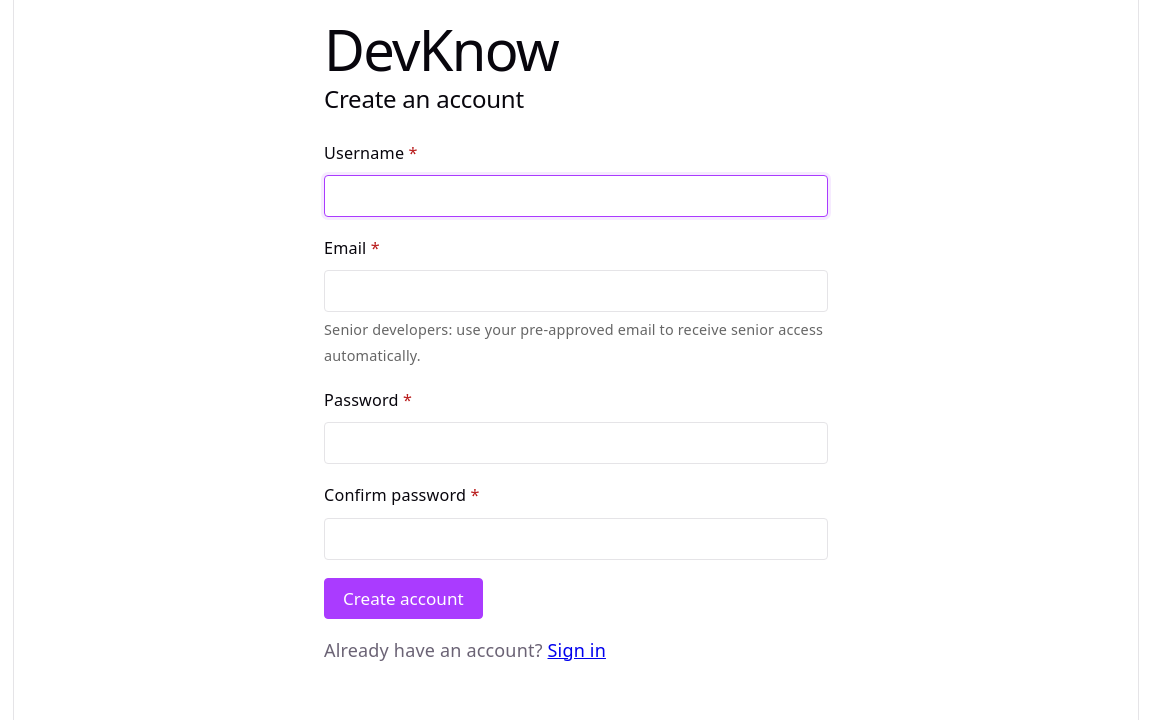
Test: RegisterPage › shows a field-level error when the username is already taken
In the field labelled "Username": x=576, y=196 [324,175,828,217], type "taken"
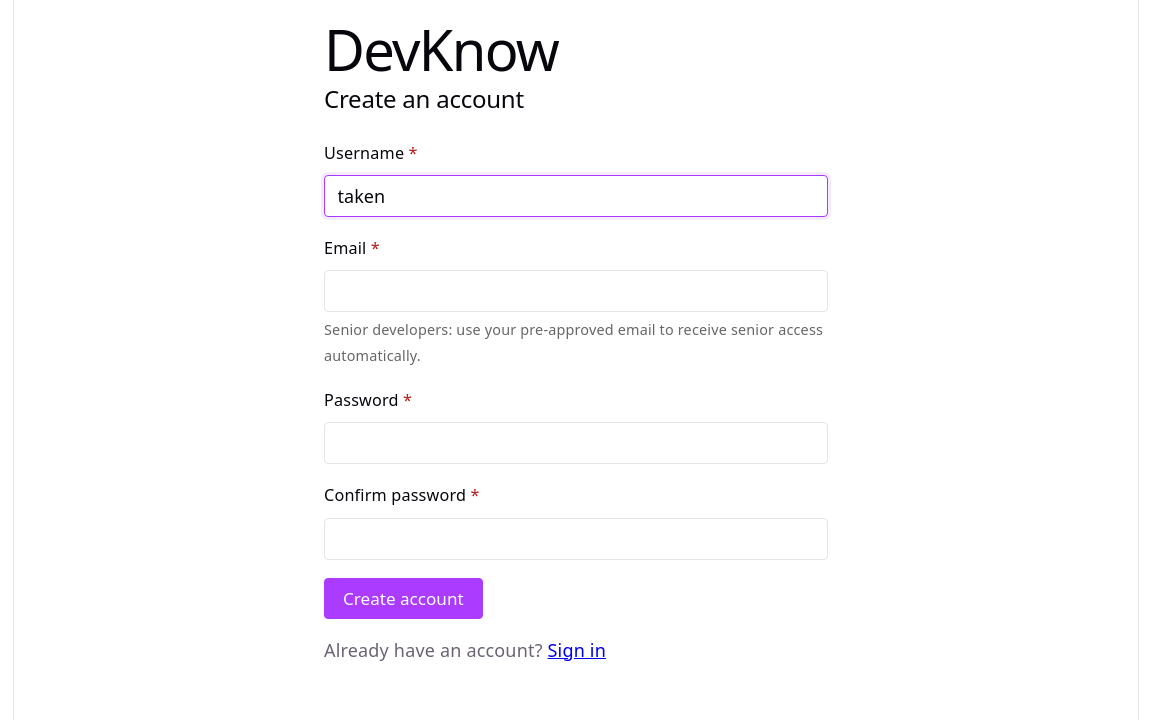
In the field labelled "Email": x=576, y=291 [324,270,828,312], type "taken@example.com"
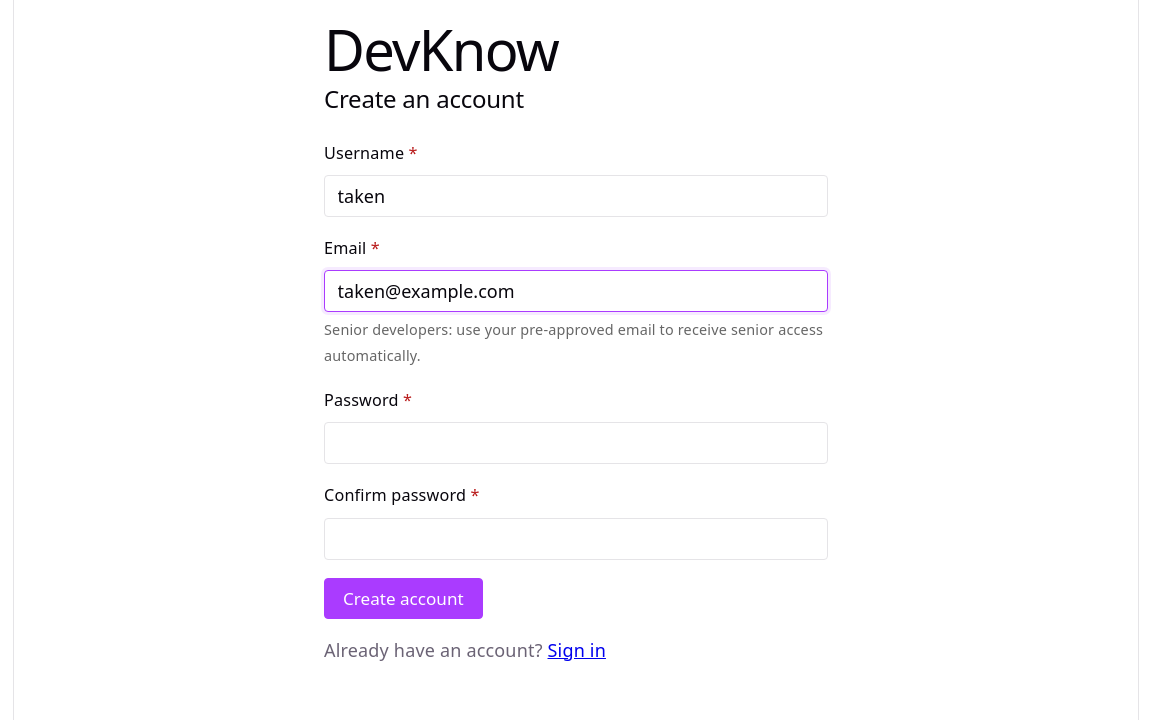
In the password field labelled "Password": x=576, y=443 [324,422,828,464], type "securepass1"
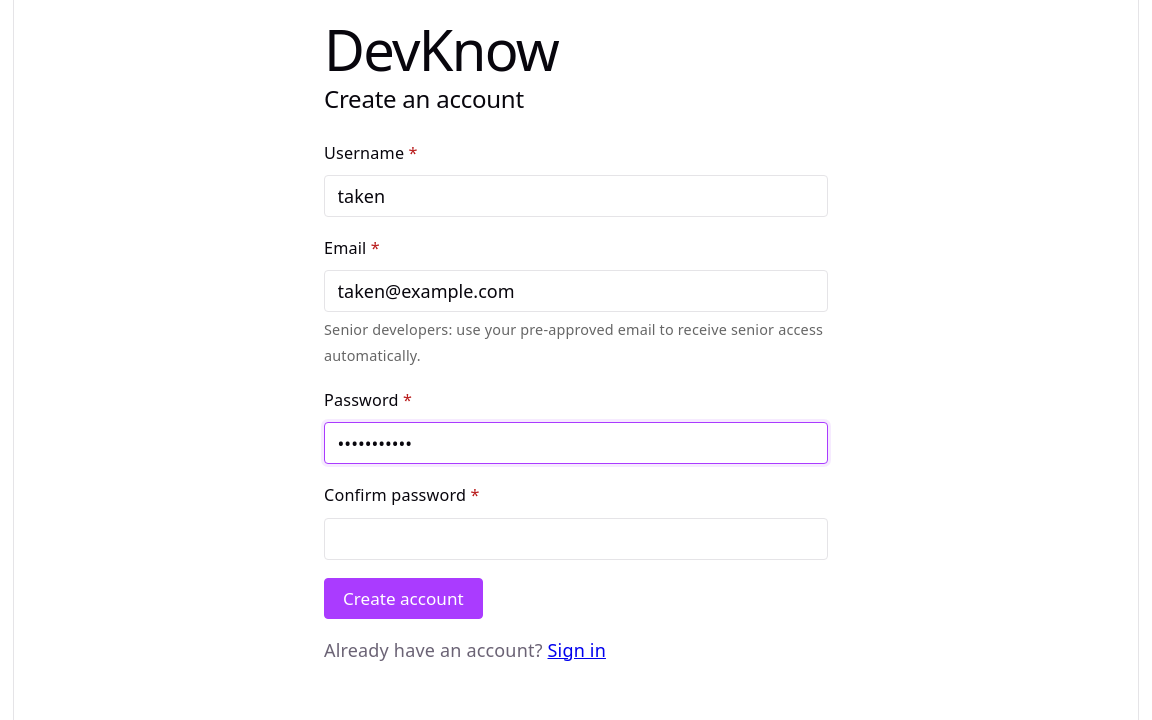
In the password field labelled "Confirm password": x=576, y=539 [324,518,828,560], type "securepass1"
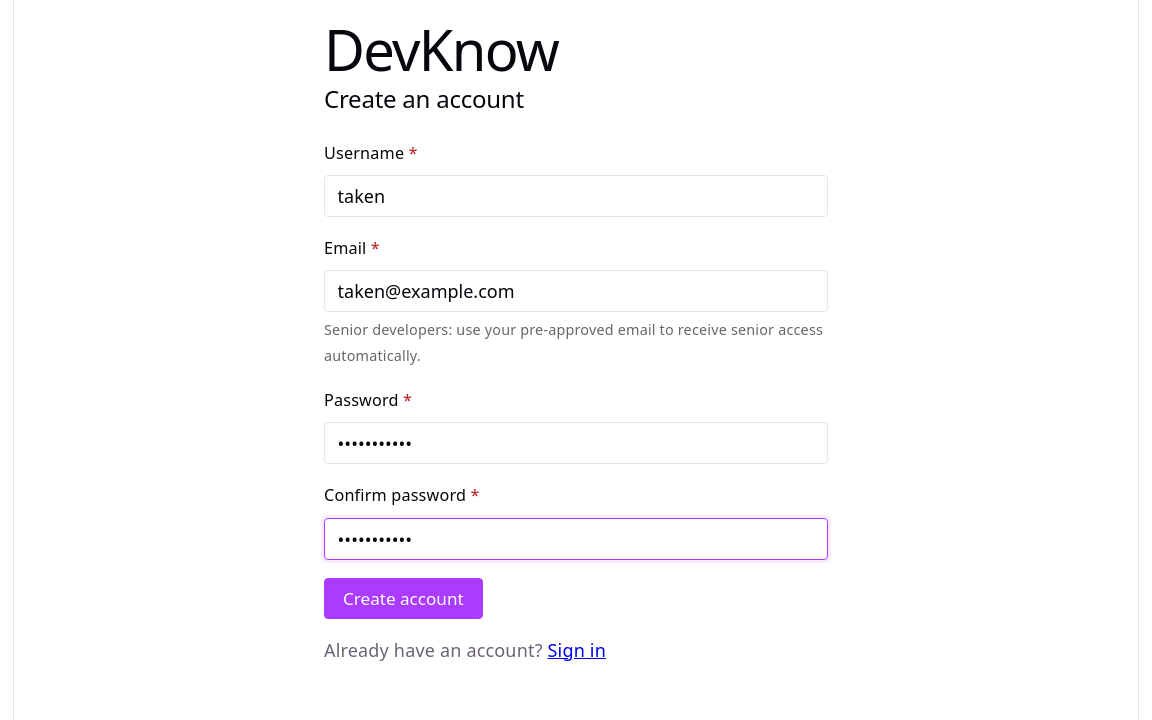
Click the button "Create account": x=403, y=598 [324,578,483,619]
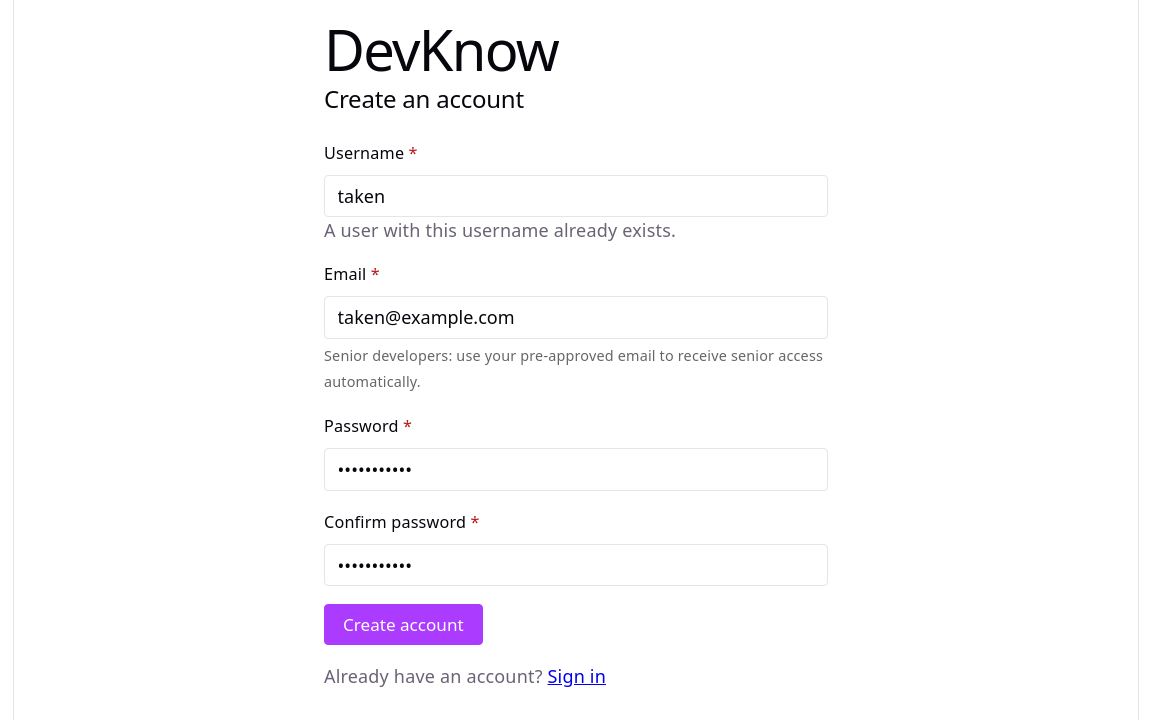
Result: the message reads "A user with this username already exists." at [324,218,676,242]
